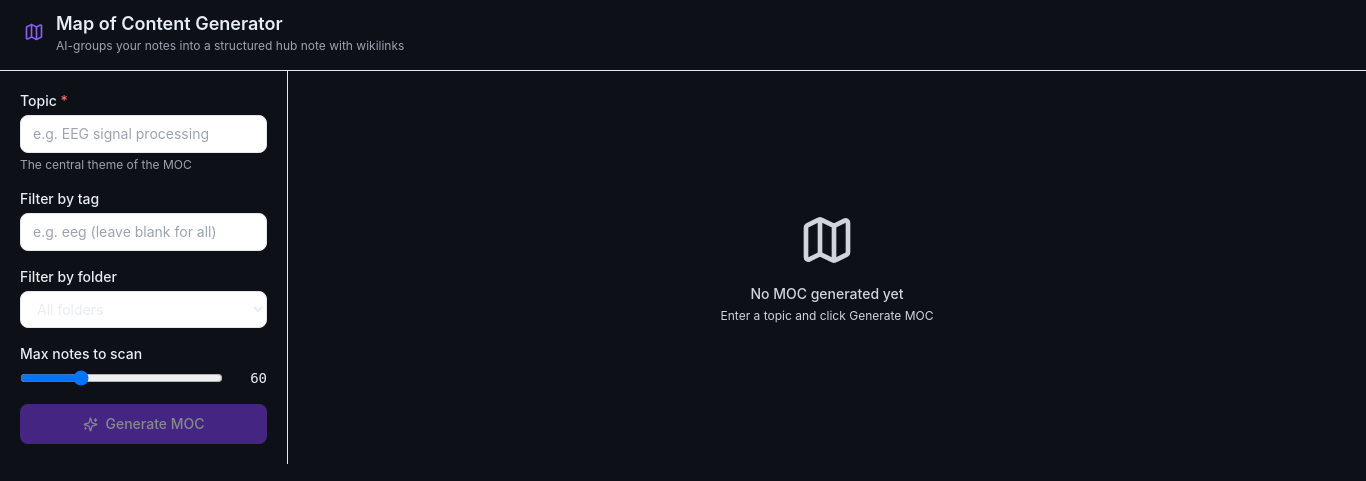
Test: MocPage — loading + error states › shows loading state while mutation is pending
Type "Buddhism" into the field with placeholder "e.g. EEG signal processing".
click(144, 134); type("Buddhism")  # box [20,115,267,153]
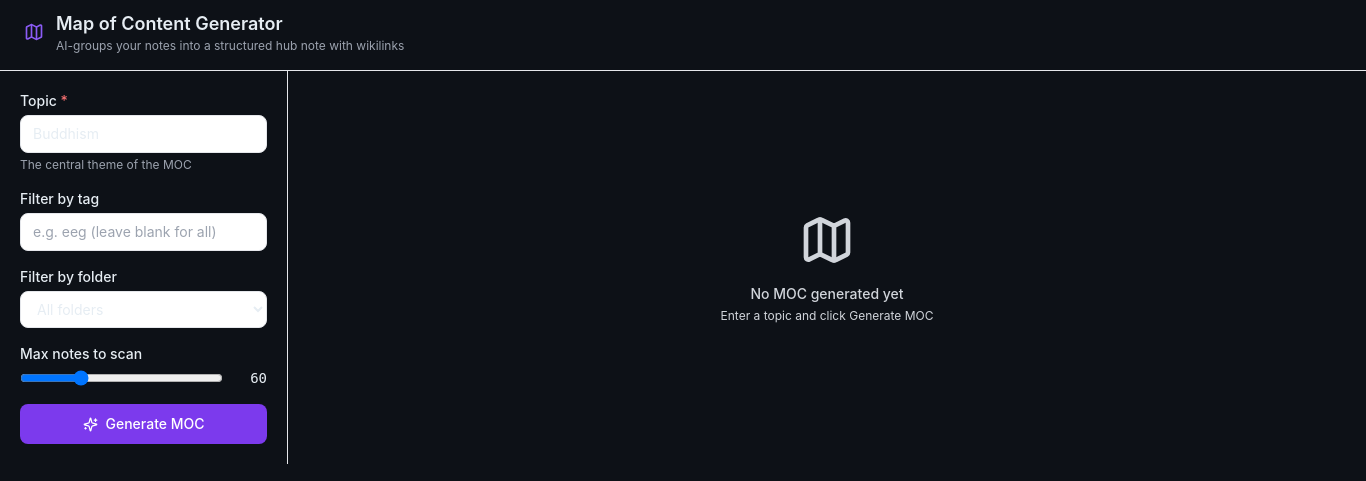
Click the button "Generate MOC".
click(144, 424)  # box [20,404,267,444]
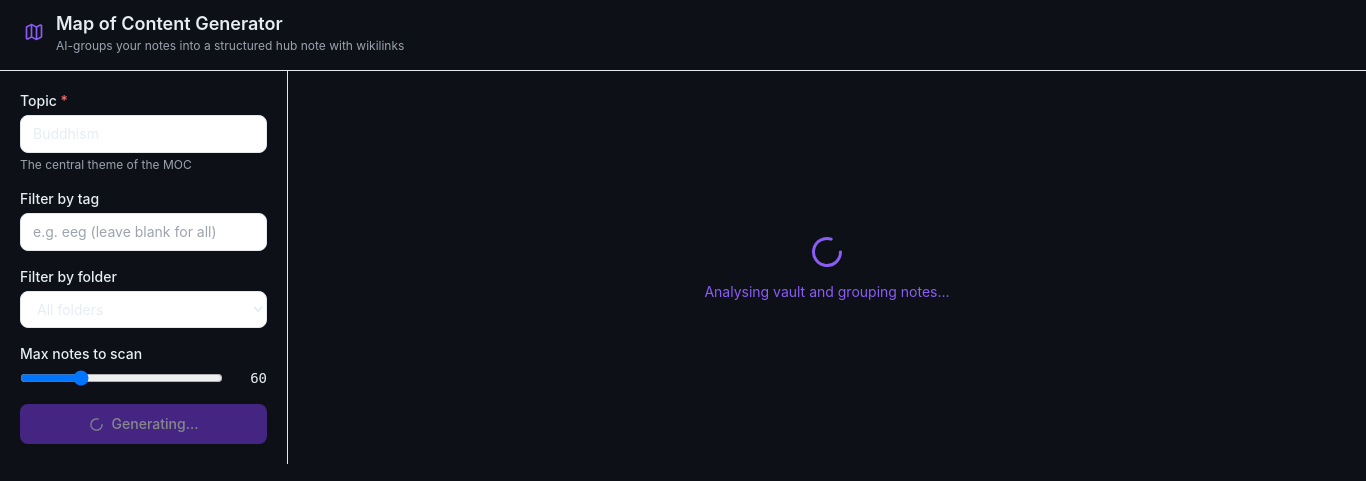
Now the button "Generating…" is shown, box [20,404,267,444]
